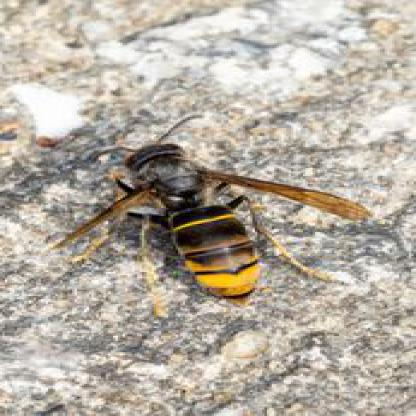Asian Hornet: (70, 110, 323, 320)
